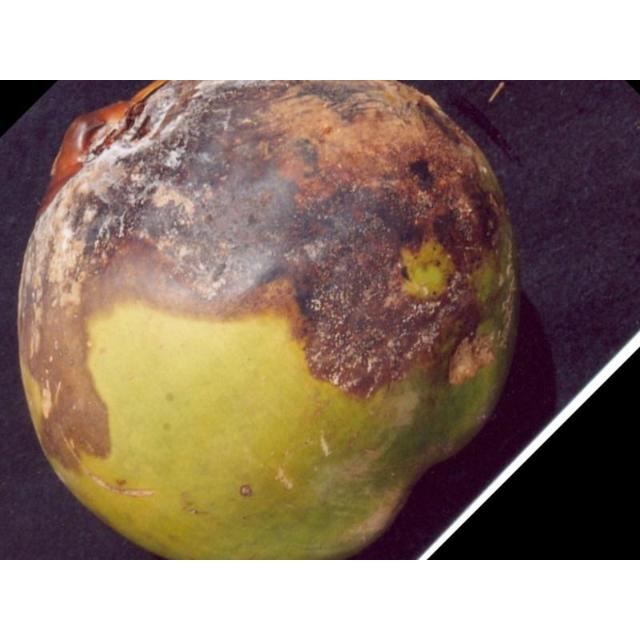damaged: (15, 80, 523, 559)
